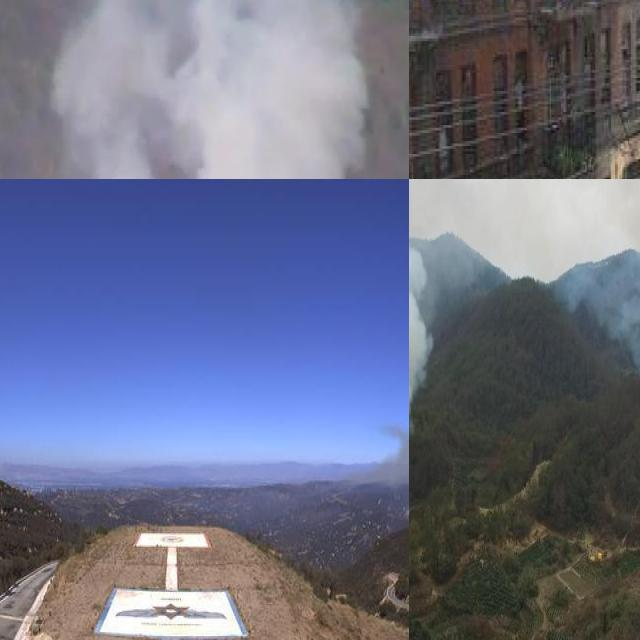smoke: (50, 0, 409, 179), (557, 179, 640, 370), (352, 417, 409, 514)
